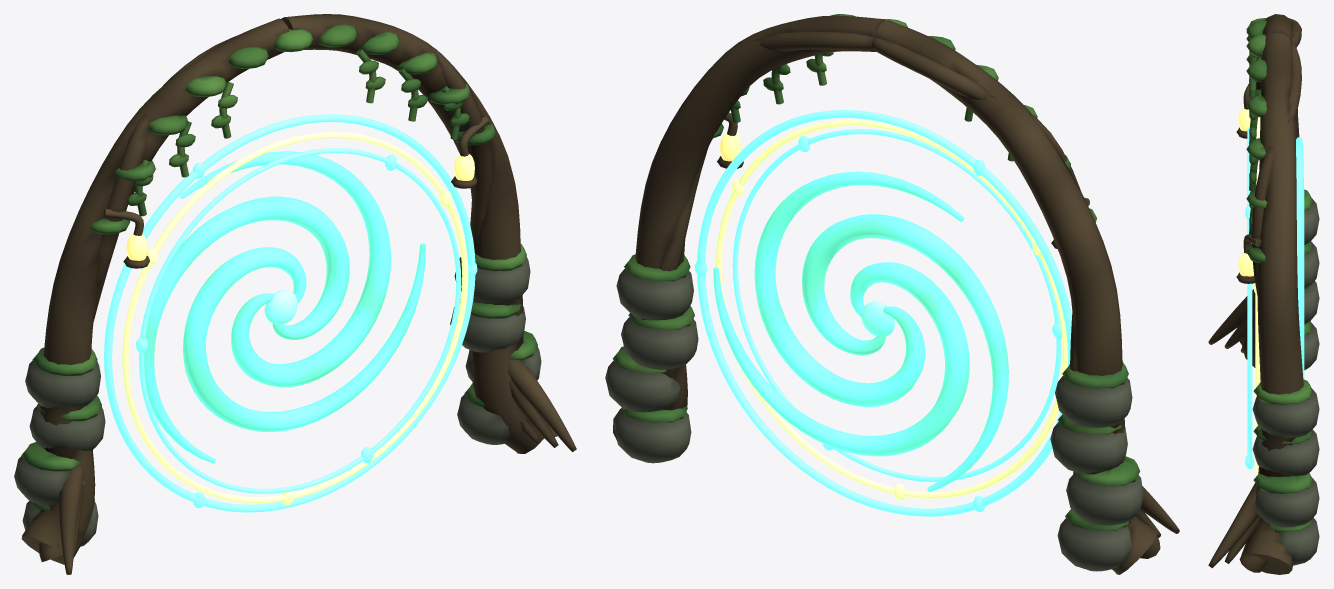
The model's file is portal-pantano.glb.
The picture shows the model from 3 angles, left to right: view 1: azimuth 30°, elevation 25°; view 2: azimuth 150°, elevation 25°; view 3: azimuth 270°, elevation 25°; orthographic projection. The views are drawn at different scales.
Visible parts, largest first — view 1: Marco de manglar, Corazón de corriente, Aro 0, Aro 1, Aro 2, Semillas cálidas fijas; view 2: Marco de manglar, Corazón de corriente, Aro 0, Aro 1, Aro 2; view 3: Marco de manglar, Corazón de corriente, Aro 2, Aro 1, Semillas cálidas fijas.
Part boxes in pixels (<box>): Marco de manglar: <box>14,14,576,574</box>; Corazón de corriente: <box>140,151,425,463</box>; Aro 0: <box>104,114,477,512</box>; Aro 1: <box>122,132,468,504</box>; Aro 2: <box>136,148,461,493</box>; Semillas cálidas fijas: <box>126,154,474,260</box>; Marco de manglar: <box>605,14,1179,574</box>; Corazón de corriente: <box>713,171,1008,491</box>; Aro 0: <box>695,110,1071,516</box>; Aro 1: <box>715,119,1067,500</box>; Aro 2: <box>732,129,1061,481</box>; Marco de manglar: <box>1208,14,1319,574</box>; Corazón de corriente: <box>1296,137,1304,379</box>; Aro 2: <box>1245,127,1254,468</box>; Aro 1: <box>1254,117,1260,475</box>; Semillas cálidas fijas: <box>1238,107,1253,276</box>.
Size of the model in its own units: 10.17 by 9.01 by 2.06.
